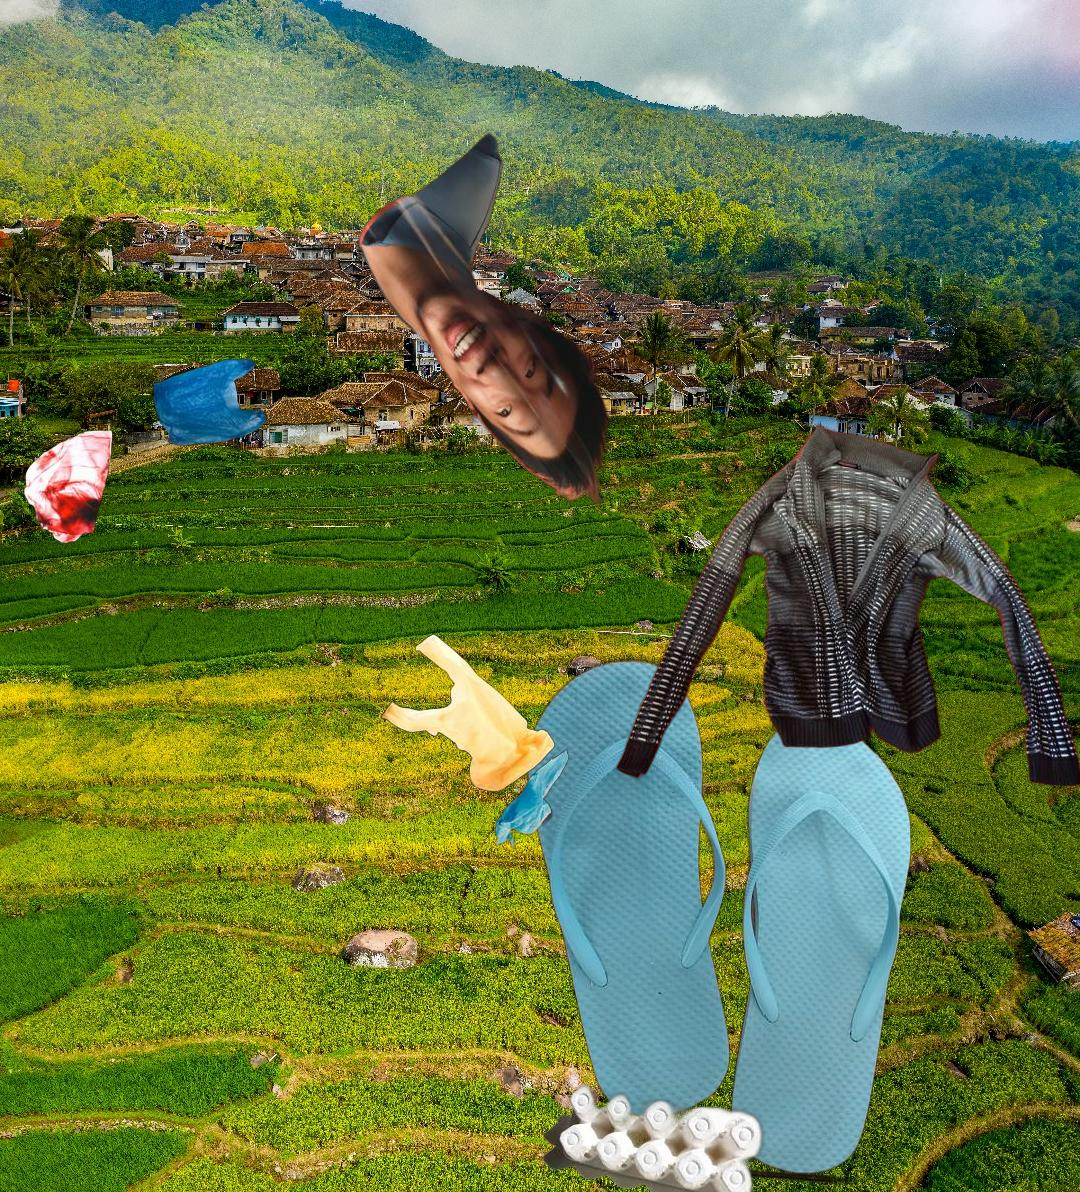clothes: (611, 417, 1080, 788)
metal-cans: (345, 967, 857, 1192)
paper: (343, 131, 614, 504)
plastic-bag: (21, 355, 268, 545), (378, 633, 570, 854)
shoes: (524, 653, 914, 1180)
trashbox-cardboard: (540, 1060, 784, 1192), (1008, 48, 1080, 375)
